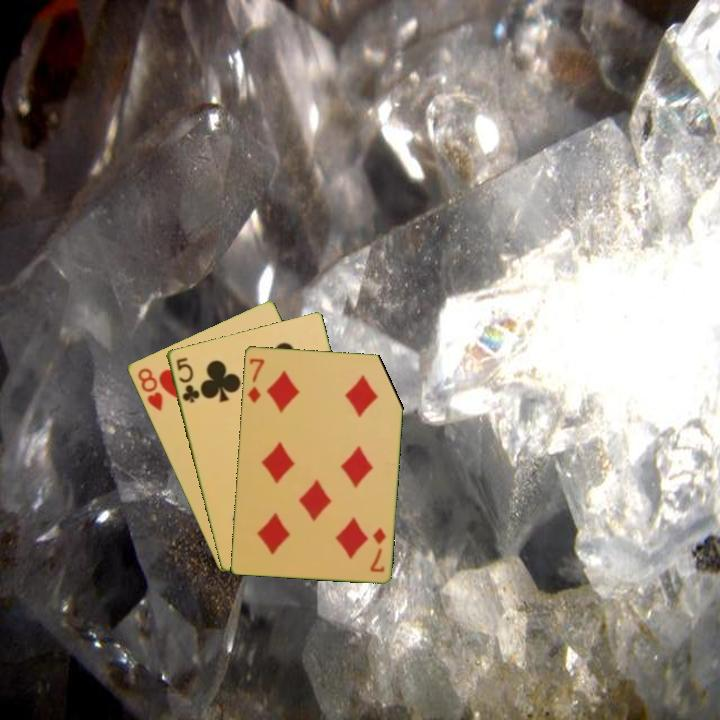5c: (172, 353, 202, 406)
7d: (244, 354, 267, 406), (366, 524, 388, 575)
8h: (134, 364, 166, 414)
